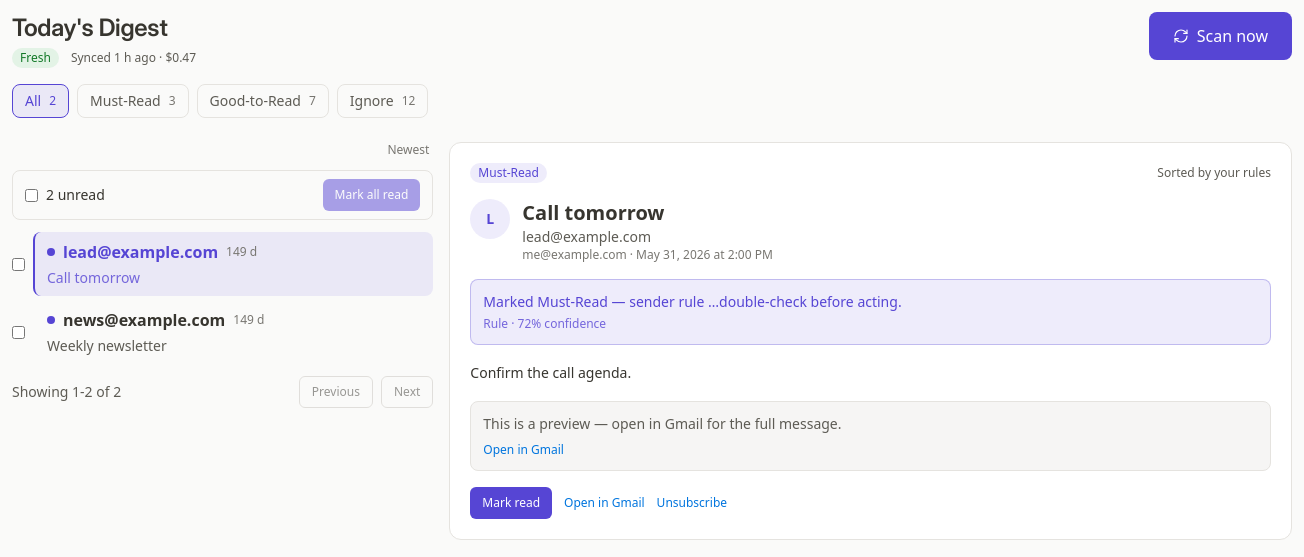
Test: <DashboardPage> › selecting a list row updates the reading pane
Expected: the heading "Call tomorrow" is shown, x1=522 y1=199 x2=664 y2=226
Click the button "news@example.com 149 d Weekly newsletter".
click(144, 320)  # box x1=33 y1=300 x2=433 y2=364
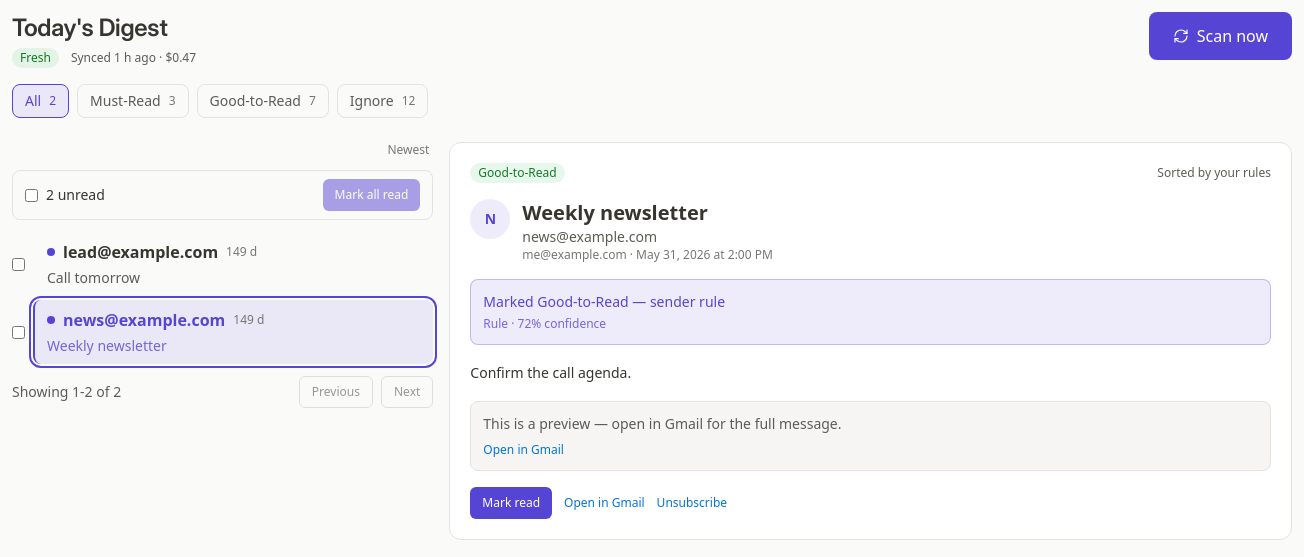
Result: the heading "Weekly newsletter" is shown at x1=522 y1=199 x2=708 y2=226
